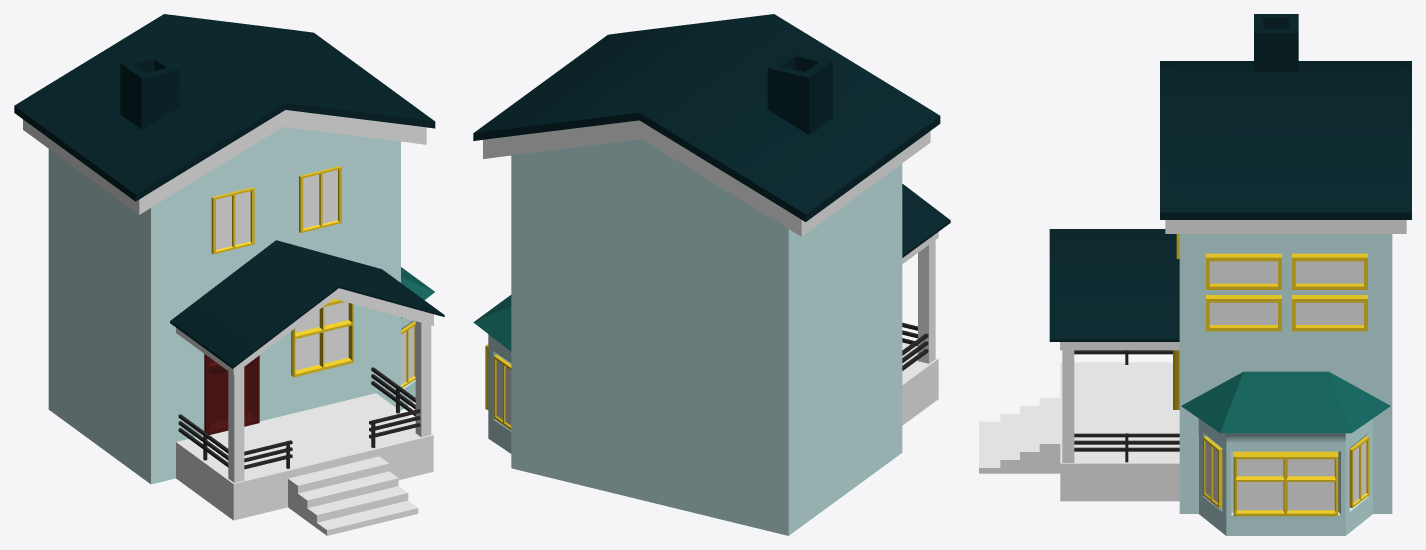
3 views of the same model, side by side, from view 1: azimuth 30°, elevation 25°; view 2: azimuth 150°, elevation 25°; view 3: azimuth 270°, elevation 25° (orthographic). The views are drawn at different scales.
Parts seen in each view (by area): view 1: Box001, Box048, Box003, Box033, Box037, Box006, Box040, Box039, Box038, Box002, Box005, Box004 (+1 smaller); view 2: Box001, Box048, Box006, Box003, Box005, Box033, Box035; view 3: Box001, Box048, Box003, Box033, Box036, Box045, Box046, Box041, Box047, Box006, Box004, Box035 (+5 smaller).
Boxes of the visible parts, x1=… form: Box001: x1=23, y1=110, x2=434, y2=484; Box048: x1=14, y1=14, x2=435, y2=201; Box003: x1=176, y1=393, x2=433, y2=535; Box033: x1=170, y1=240, x2=444, y2=368; Box037: x1=291, y1=298, x2=353, y2=377; Box006: x1=120, y1=53, x2=179, y2=129; Box040: x1=204, y1=354, x2=259, y2=434; Box039: x1=211, y1=187, x2=254, y2=254; Box038: x1=299, y1=166, x2=341, y2=232; Box002: x1=176, y1=288, x2=433, y2=374; Box005: x1=228, y1=367, x2=244, y2=482; Box004: x1=415, y1=321, x2=431, y2=437; Box001: x1=473, y1=120, x2=930, y2=535; Box048: x1=473, y1=14, x2=940, y2=221; Box006: x1=767, y1=50, x2=832, y2=134; Box003: x1=902, y1=342, x2=938, y2=425; Box005: x1=918, y1=240, x2=935, y2=363; Box033: x1=902, y1=184, x2=950, y2=257; Box035: x1=493, y1=355, x2=511, y2=429; Box001: x1=1165, y1=220, x2=1406, y2=535; Box048: x1=1160, y1=61, x2=1411, y2=219; Box003: x1=979, y1=362, x2=1179, y2=501; Box033: x1=1049, y1=229, x2=1179, y2=341; Box036: x1=1233, y1=451, x2=1338, y2=516; Box045: x1=1292, y1=295, x2=1367, y2=331; Box046: x1=1292, y1=253, x2=1367, y2=289; Box041: x1=1206, y1=295, x2=1281, y2=331; Box047: x1=1206, y1=253, x2=1281, y2=289; Box006: x1=1254, y1=14, x2=1298, y2=71; Box004: x1=1062, y1=350, x2=1074, y2=462; Box035: x1=1349, y1=436, x2=1369, y2=508.
Size of the model in its own units: 65.69 by 71.32 by 72.27.
Materials: 5 (1 with a texture image).
